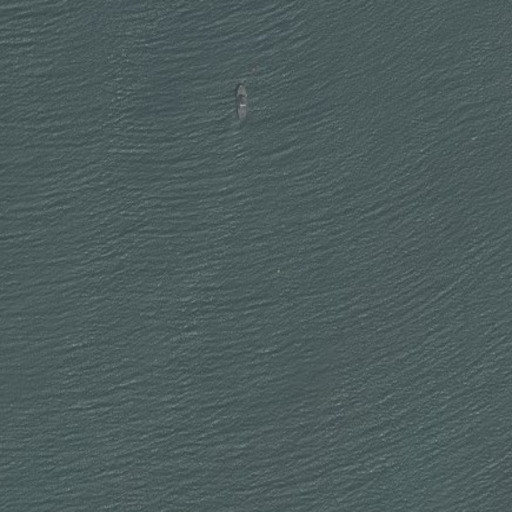ship: (233, 80, 252, 124)
